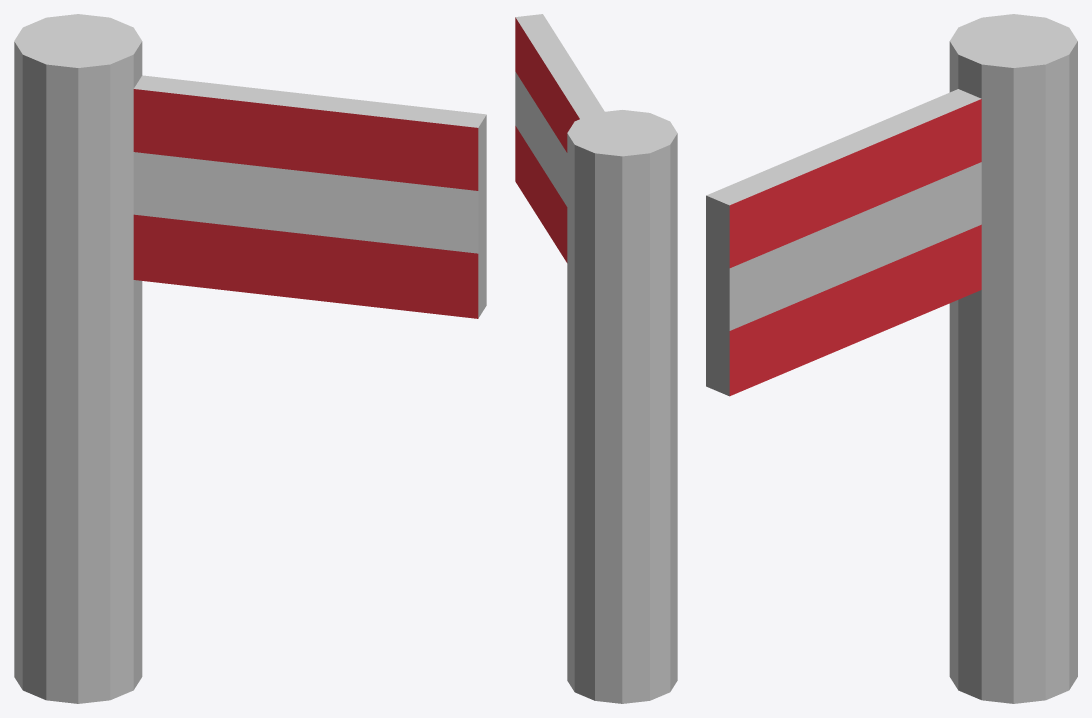
3 renders of one model, left to right at view 1: azimuth 30°, elevation 25°; view 2: azimuth 150°, elevation 25°; view 3: azimuth 270°, elevation 25°, orthographic. The views are drawn at different scales.
Visible parts, largest first — view 1: Cylinder; view 2: Cylinder; view 3: Cylinder.
Part boxes in pixels (left/top/right/bottom): Cylinder: left=14, top=14, right=486, bottom=703; Cylinder: left=515, top=14, right=677, bottom=703; Cylinder: left=706, top=14, right=1077, bottom=703.
Bounding box in the file's own units: 0.2384 × 0.4499 × 0.2384.
